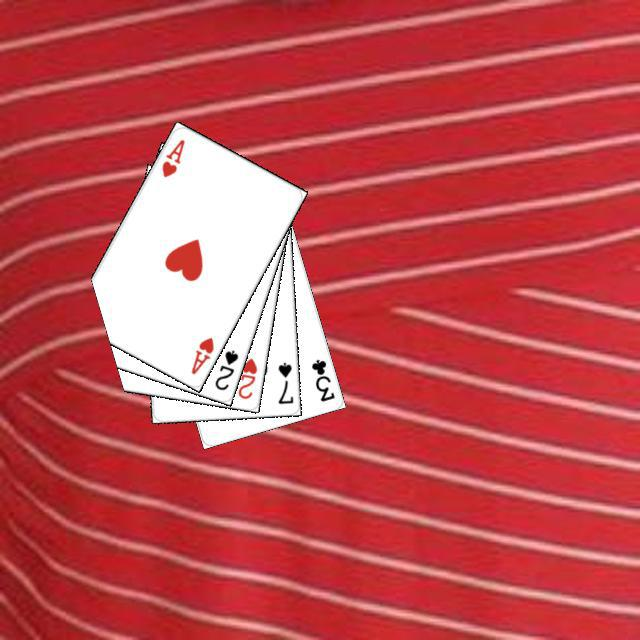2h: (233, 353, 259, 401)
2s: (210, 345, 240, 392)
3c: (306, 354, 337, 403)
7s: (273, 357, 295, 405)
Ah: (157, 134, 187, 179), (186, 332, 216, 376)
